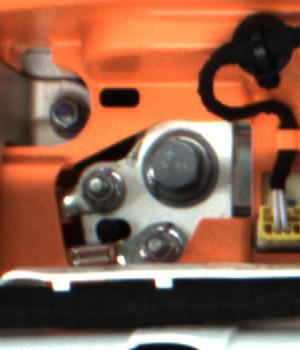nut_b: (136, 122, 225, 209)
